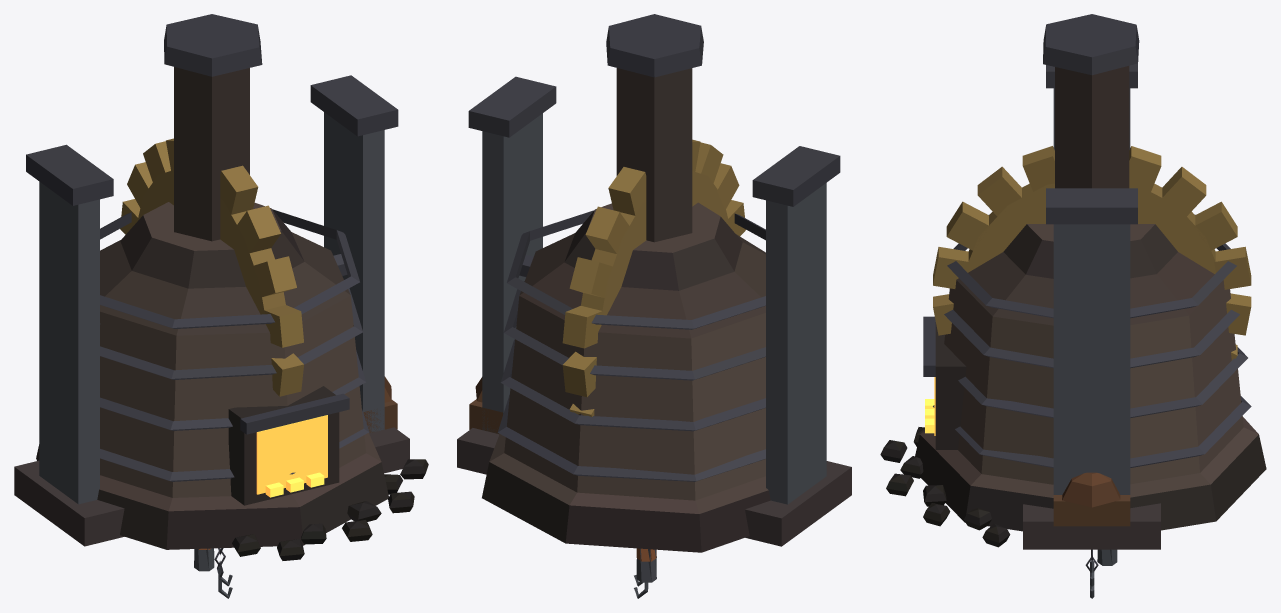
File: forge.glb
3 renders of one model, left to right at view 1: azimuth 30°, elevation 25°; view 2: azimuth 150°, elevation 25°; view 3: azimuth 270°, elevation 25°, orthographic. The views are drawn at different scales.
Visible parts, largest first — view 1: forge_furnace_a, forge_great_gear_a; view 2: forge_furnace_a, forge_great_gear_a, forge_pipe_bend_b; view 3: forge_furnace_a, forge_great_gear_a.
Part boxes in pixels (box(x1,y1,x2,y2)): forge_furnace_a: box(36, 14, 428, 560); forge_great_gear_a: box(14, 75, 409, 546); forge_furnace_a: box(469, 14, 770, 552); forge_great_gear_a: box(457, 76, 851, 546); forge_pipe_bend_b: box(636, 548, 656, 582); forge_furnace_a: box(880, 14, 1266, 547); forge_great_gear_a: box(933, 63, 1251, 549).
Size of the model in its own units: 2.52 by 4 by 2.52.
